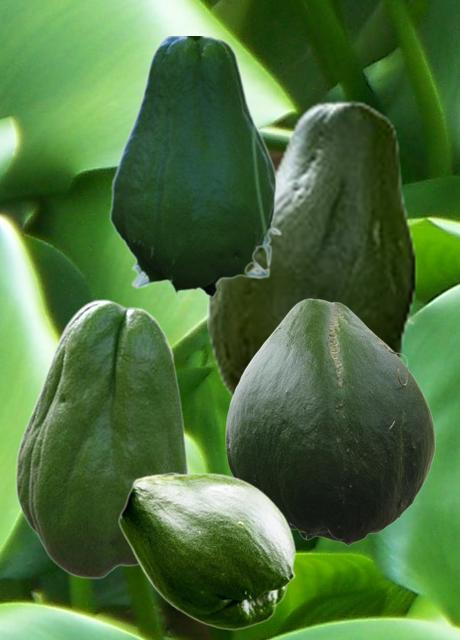sayote: (207, 100, 416, 401), (225, 298, 434, 545), (15, 299, 188, 578), (109, 36, 281, 302), (118, 472, 295, 629)
